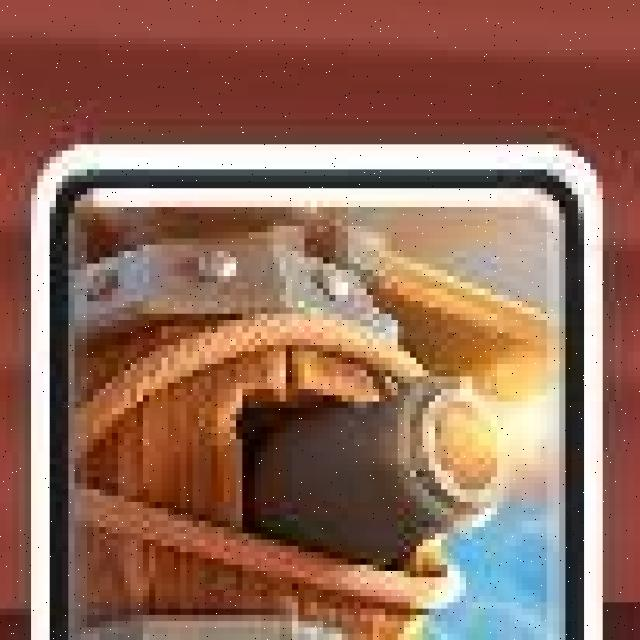Flying_Machine: (31, 145, 604, 640)
